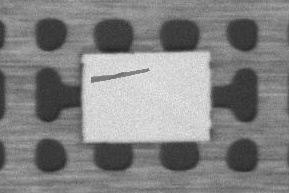DIE_INK: (91, 65, 149, 83)
